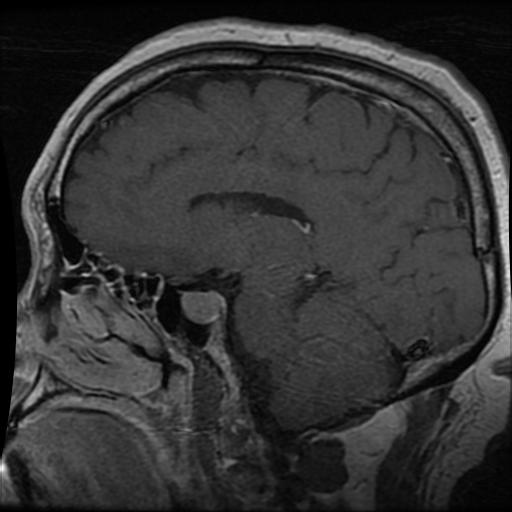Pituirity_tumour: (178, 290, 224, 323)
